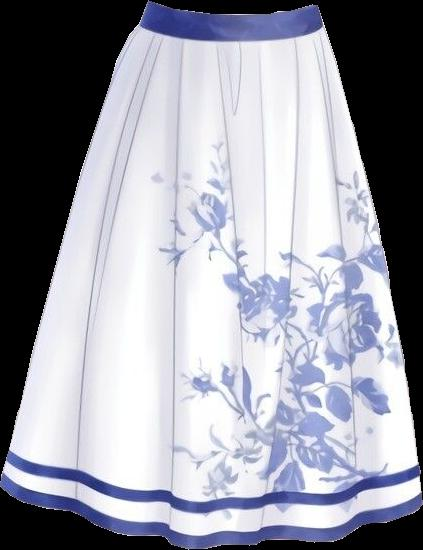Hemline: (0, 480, 422, 549)
Waistline: (135, 21, 325, 46), (147, 0, 318, 17)
